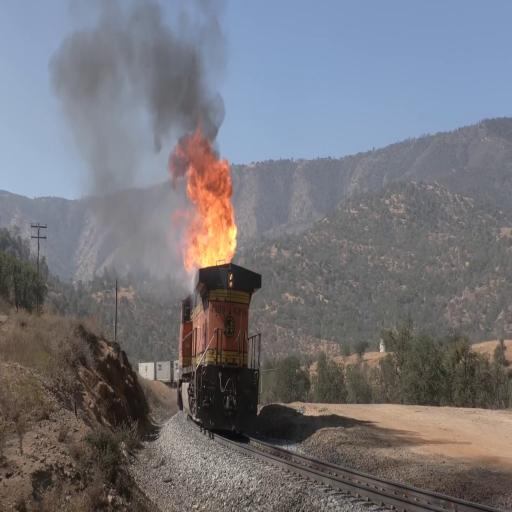fire: (172, 130, 238, 276)
smoke: (70, 1, 216, 121)
